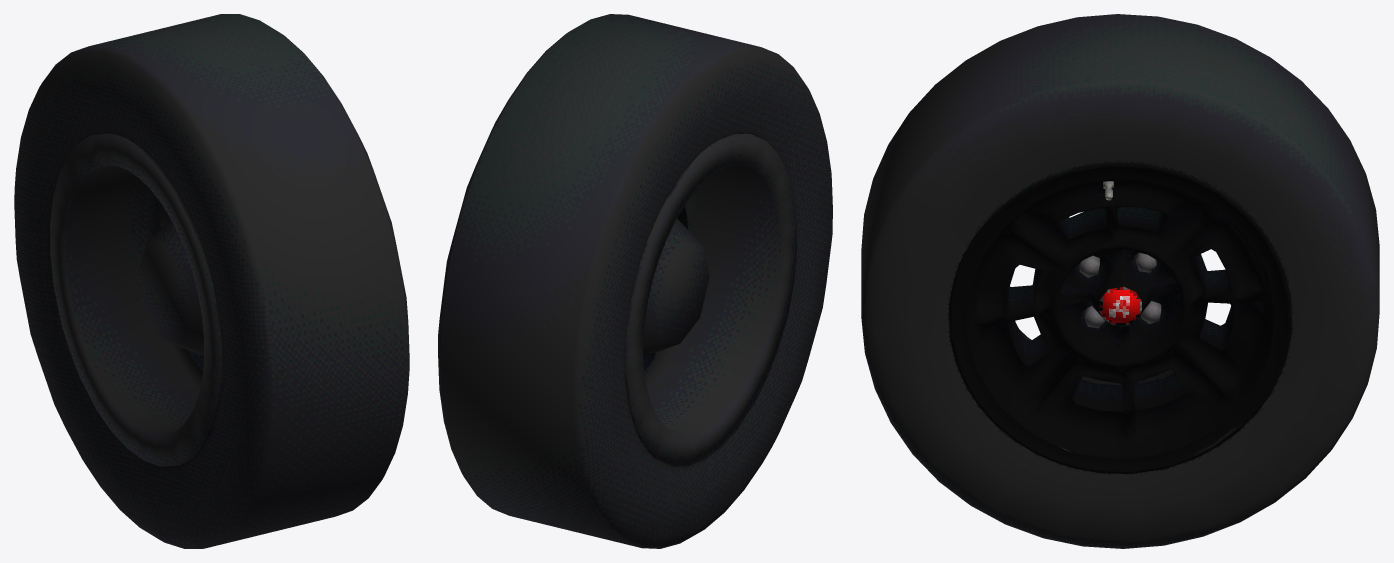
Rendered from fiat_131_abarth_wheel_front_right.glb.
The picture shows the model from 3 angles, left to right: view 1: azimuth 30°, elevation 25°; view 2: azimuth 150°, elevation 25°; view 3: azimuth 270°, elevation 25°; orthographic projection.
Visible parts, largest first — view 1: Fiat131_Wheel_front_right; view 2: Fiat131_Wheel_front_right; view 3: Fiat131_Wheel_front_right.
Boxes of the visible parts, x1,y1,x2,y2 form: Fiat131_Wheel_front_right: (14,14,409,548); Fiat131_Wheel_front_right: (438,14,832,548); Fiat131_Wheel_front_right: (861,14,1379,548).
Size of the model in its own units: 0.2102 by 0.5923 by 0.5923.
1 material, 1 textured.
